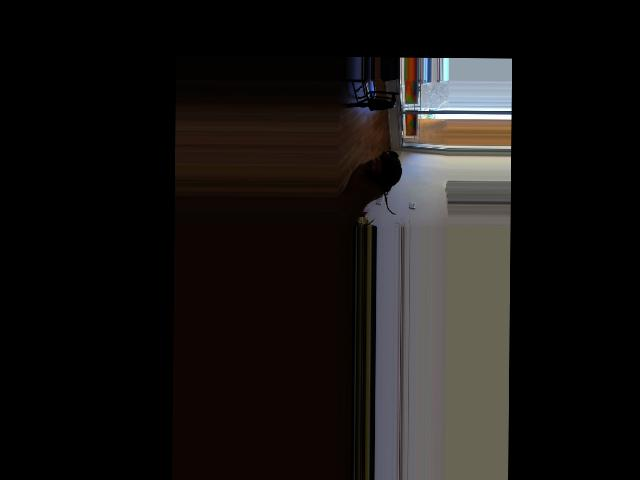beet: (379, 149, 401, 214)
